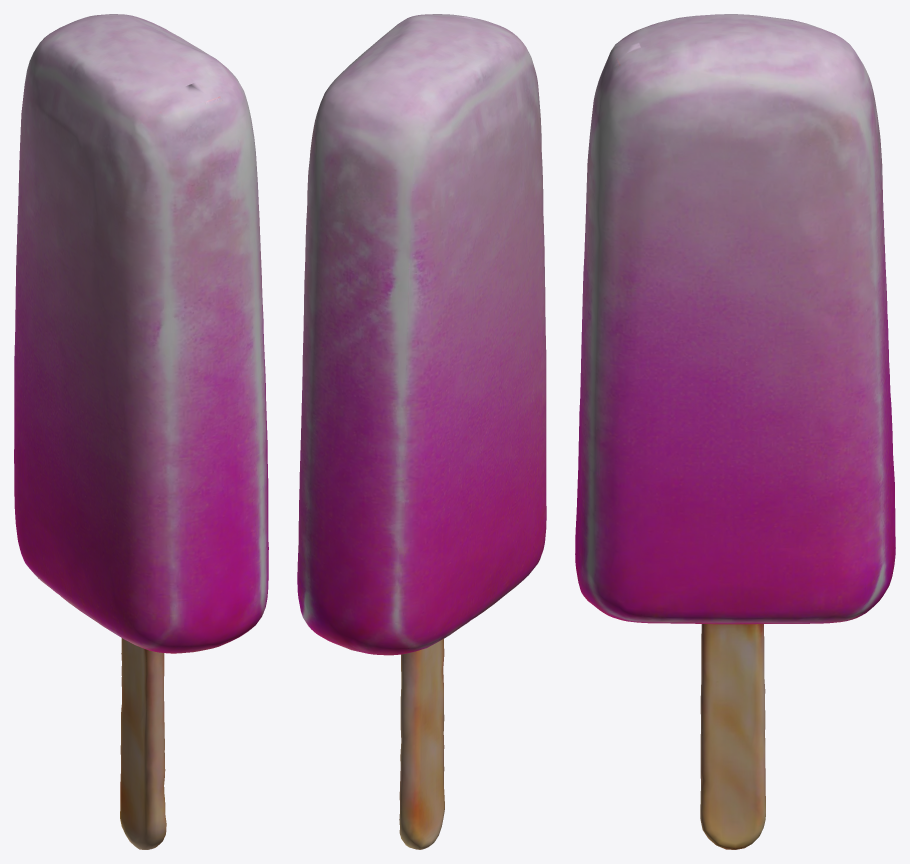
File: realpopsicle.glb
The picture shows the model from 3 angles, left to right: view 1: azimuth 30°, elevation 25°; view 2: azimuth 150°, elevation 25°; view 3: azimuth 270°, elevation 25°; orthographic projection.
Parts seen in each view (by area): view 1: mesh_base_material_0; view 2: mesh_base_material_0; view 3: mesh_base_material_0.
Part boxes in pixels (<box>): mesh_base_material_0: <box>14,14,268,849</box>; mesh_base_material_0: <box>297,14,546,849</box>; mesh_base_material_0: <box>575,14,895,849</box>.
Size of the model in its own units: 0.0282 by 0.14 by 0.0498.
Materials: 1 (1 with a texture image).
